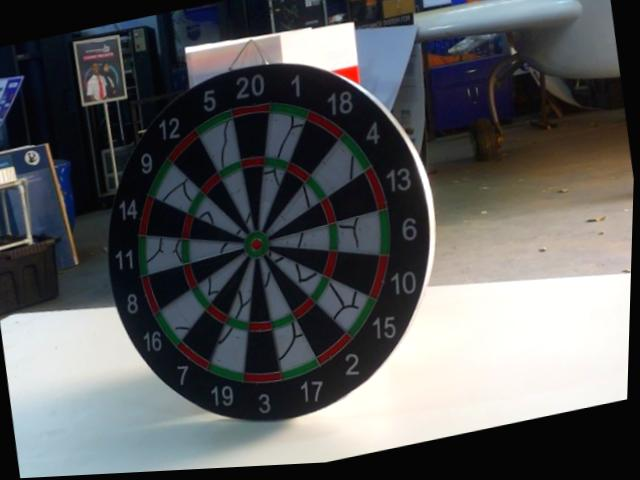single_1: (271, 114, 295, 155)
